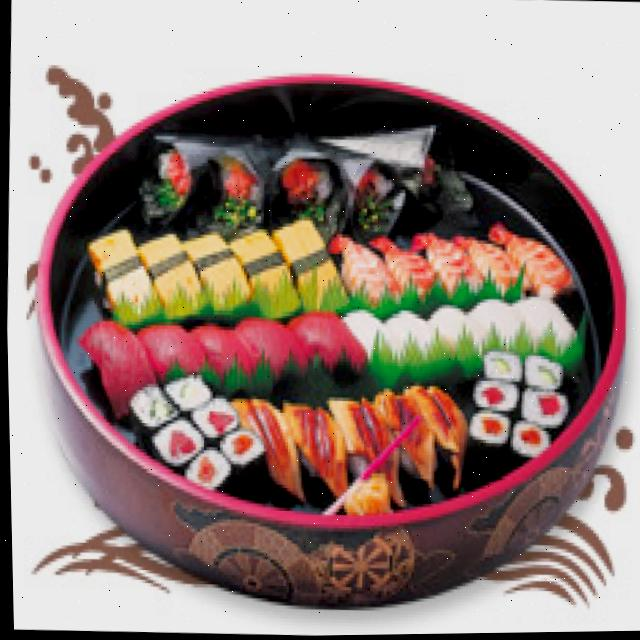寿司卷物: (24, 78, 625, 601)
